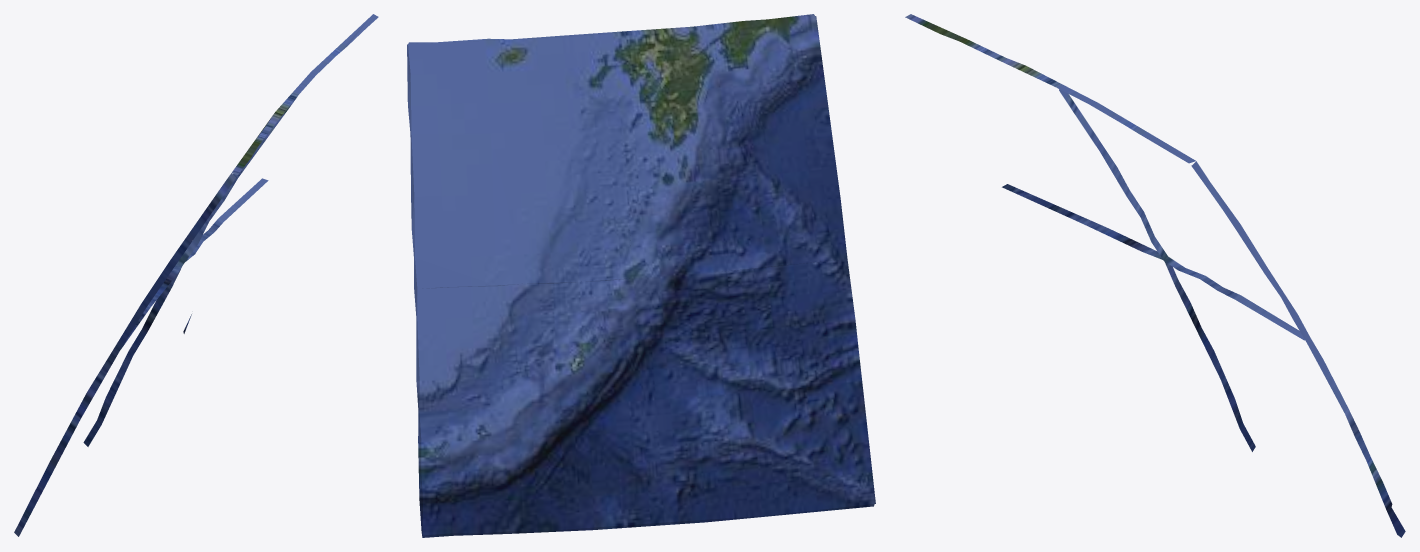
The picture shows the model from 3 angles, left to right: view 1: azimuth 30°, elevation 25°; view 2: azimuth 150°, elevation 25°; view 3: azimuth 270°, elevation 25°; orthographic projection. The views are drawn at different scales.
Size of the model in its own units: 1233611 by 1119041 by 1167050.
Materials: 1 (1 with a texture image).
